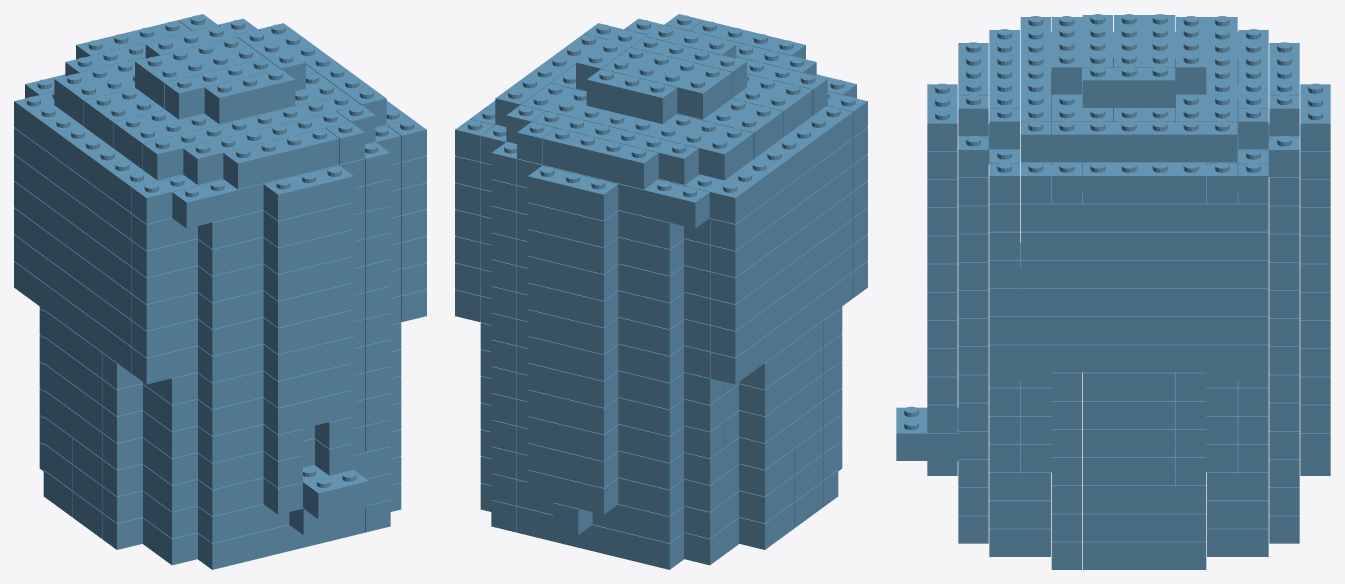
The model's file is 057_birdhouse_L2.glb.
3 views of the same model, side by side, from view 1: azimuth 30°, elevation 25°; view 2: azimuth 150°, elevation 25°; view 3: azimuth 270°, elevation 25° (orthographic). The views are drawn at different scales.
Bounding box in the file's own units: 10.98 × 16.13 × 13.98.
